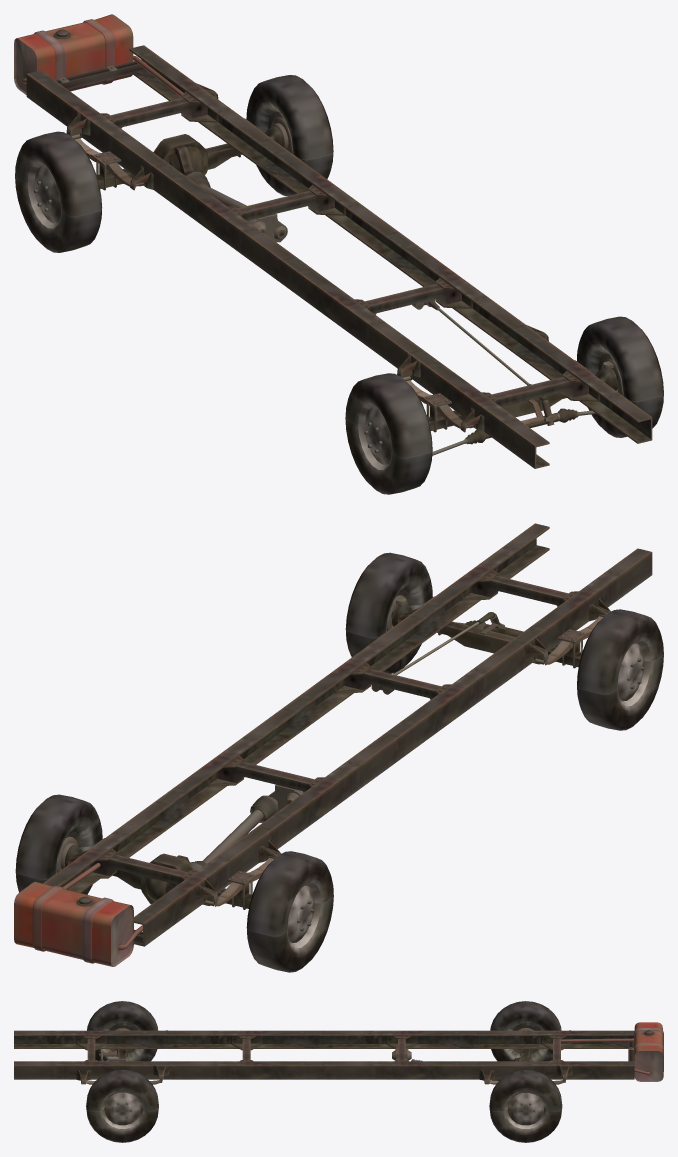
Rendered from car_4mod_07.glb.
3 views of the same model, one above another, from view 1: azimuth 30°, elevation 25°; view 2: azimuth 150°, elevation 25°; view 3: azimuth 270°, elevation 25° (orthographic). The views are drawn at different scales.
Parts seen in each view (by area): view 1: LOD0 (×10); view 2: LOD0 (×10); view 3: LOD0 (×8).
Part boxes in pixels (left/top/right/bottom): LOD0 (×10): left=14, top=14, right=663, bottom=494; LOD0 (×10): left=14, top=523, right=663, bottom=972; LOD0 (×8): left=14, top=1001, right=663, bottom=1142.
Bounding box in the file's own units: 1.81 × 0.755 × 6.29.
Materials: 1 (1 with a texture image).
